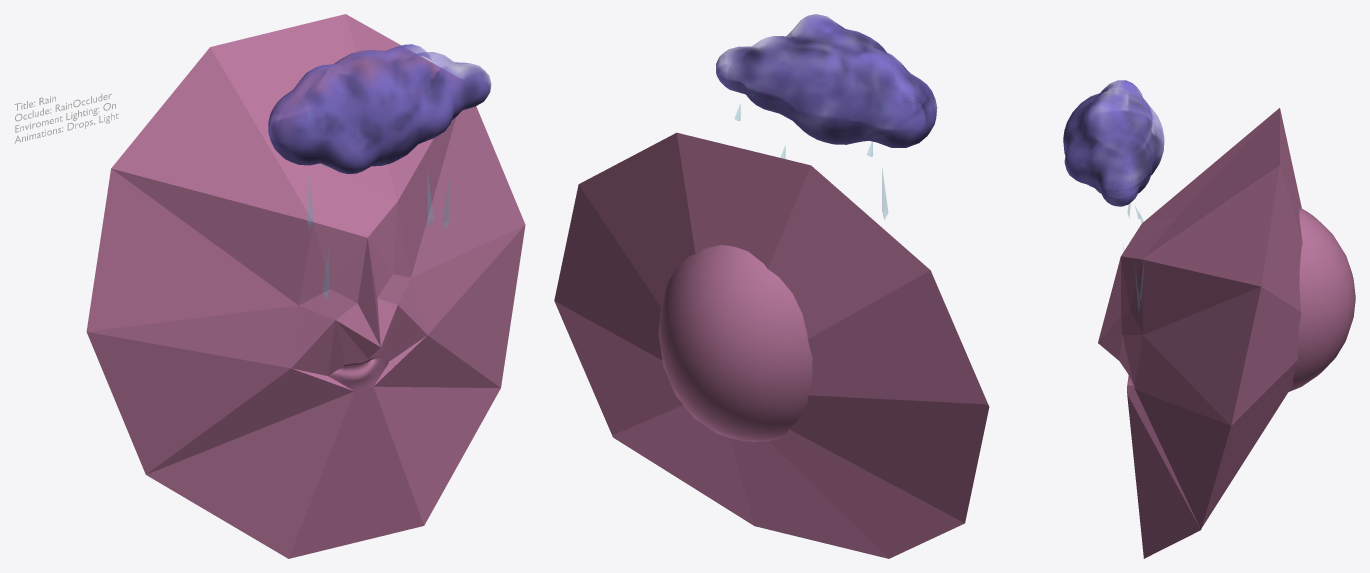
File: Rain.glb
3 views of the same model, side by side, from view 1: azimuth 30°, elevation 25°; view 2: azimuth 150°, elevation 25°; view 3: azimuth 270°, elevation 25° (orthographic). The views are drawn at different scales.
Parts seen in each view (by area): view 1: RainOccluder, RainCloud, OccluderFace, _Rain, RainDrops; view 2: RainOccluder, OccluderHead, RainCloud; view 3: RainOccluder, RainCloud, OccluderHead.
Part boxes in pixels (<box>): RainOccluder: <box>86,14,525,558</box>; RainCloud: <box>268,44,491,173</box>; OccluderFace: <box>328,355,388,391</box>; _Rain: <box>14,93,118,143</box>; RainDrops: <box>308,165,448,299</box>; RainOccluder: <box>554,132,989,558</box>; OccluderHead: <box>658,245,812,441</box>; RainCloud: <box>716,14,937,147</box>; RainOccluder: <box>1098,108,1302,558</box>; RainCloud: <box>1063,80,1164,206</box>; OccluderHead: <box>1289,208,1355,391</box>.
Size of the model in its own units: 48.28 by 46.89 by 28.35.
Materials: 4 (1 with a texture image).
